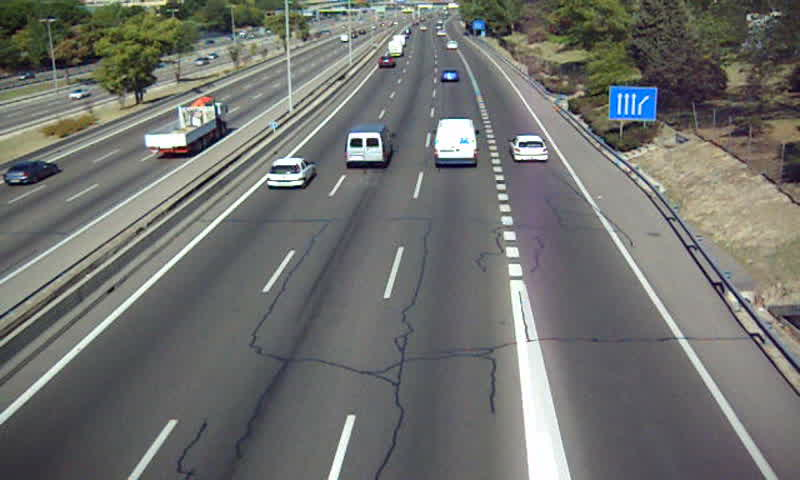car: (266, 157, 316, 189), (510, 132, 548, 160), (440, 68, 460, 84), (378, 56, 395, 68)
van: (434, 118, 479, 167), (346, 124, 395, 167)
